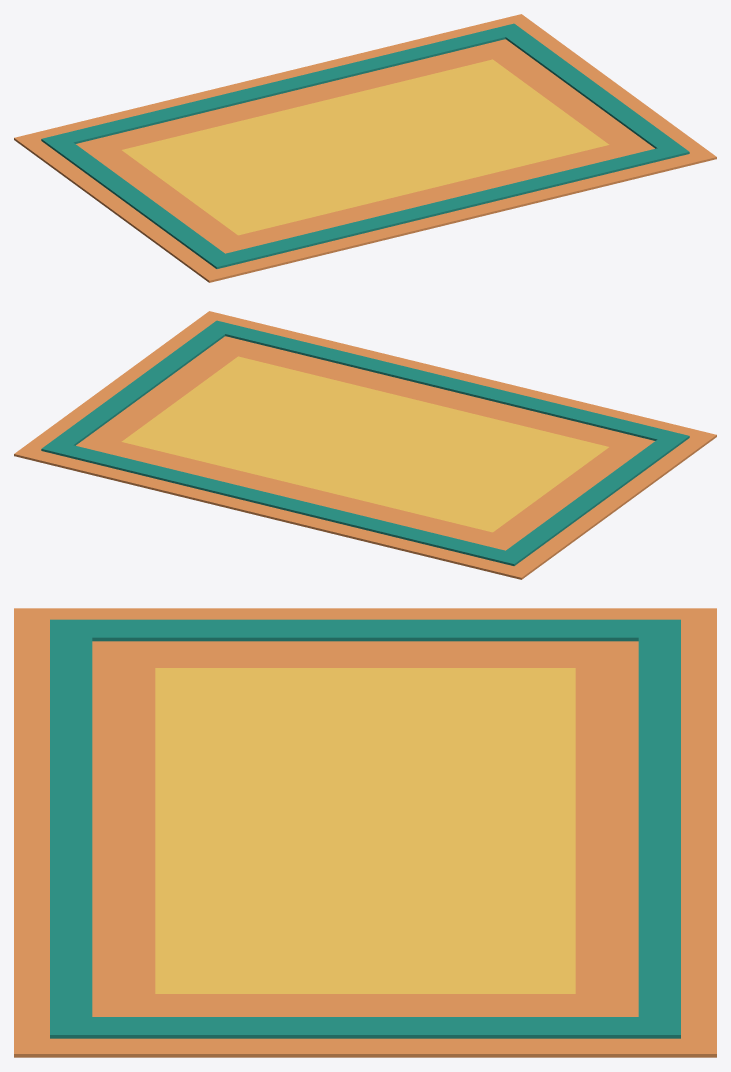
The model's file is Carpet.fbx.
The picture shows the model from 3 angles, top to bottom: view 1: azimuth 30°, elevation 25°; view 2: azimuth 150°, elevation 25°; view 3: azimuth 270°, elevation 25°; orthographic projection. The views are drawn at different scales.
Parts seen in each view (by area): view 1: Plane; view 2: Plane; view 3: Plane.
Part boxes in pixels (<box>): Plane: <box>14,14,716,282</box>; Plane: <box>14,311,716,579</box>; Plane: <box>14,608,716,1057</box>.
Size of the model in its own units: 600 by 4.73 by 400.
